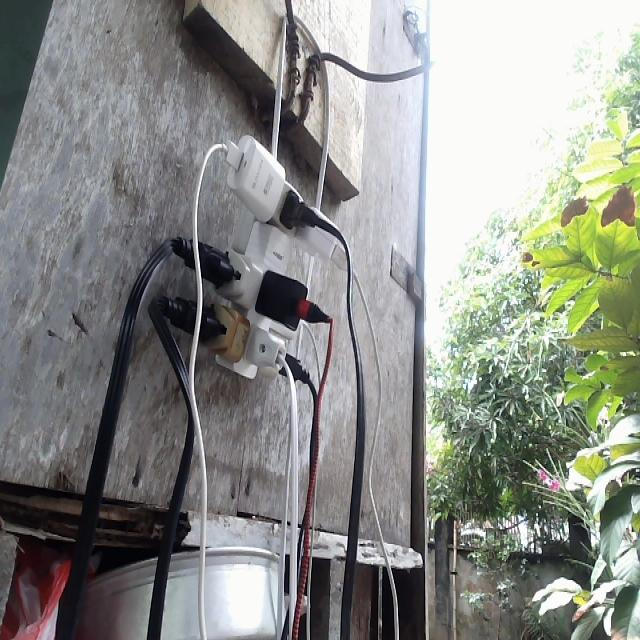-: (145, 134, 350, 386)
